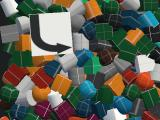Left: (29, 12, 73, 56)
